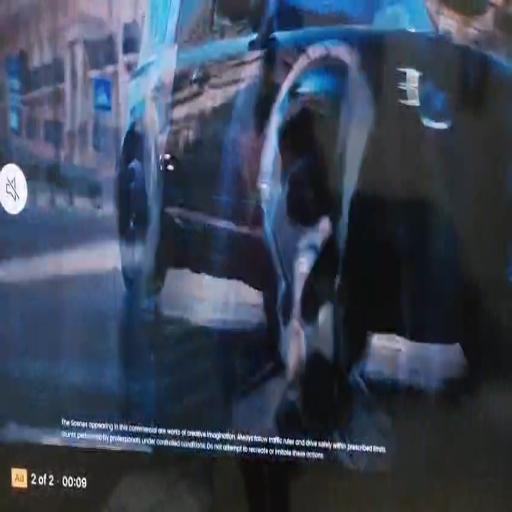ad label: (10, 468, 28, 494)
